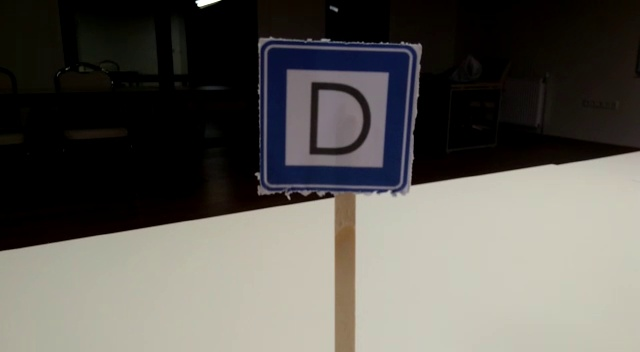durak: (260, 44, 417, 191)
